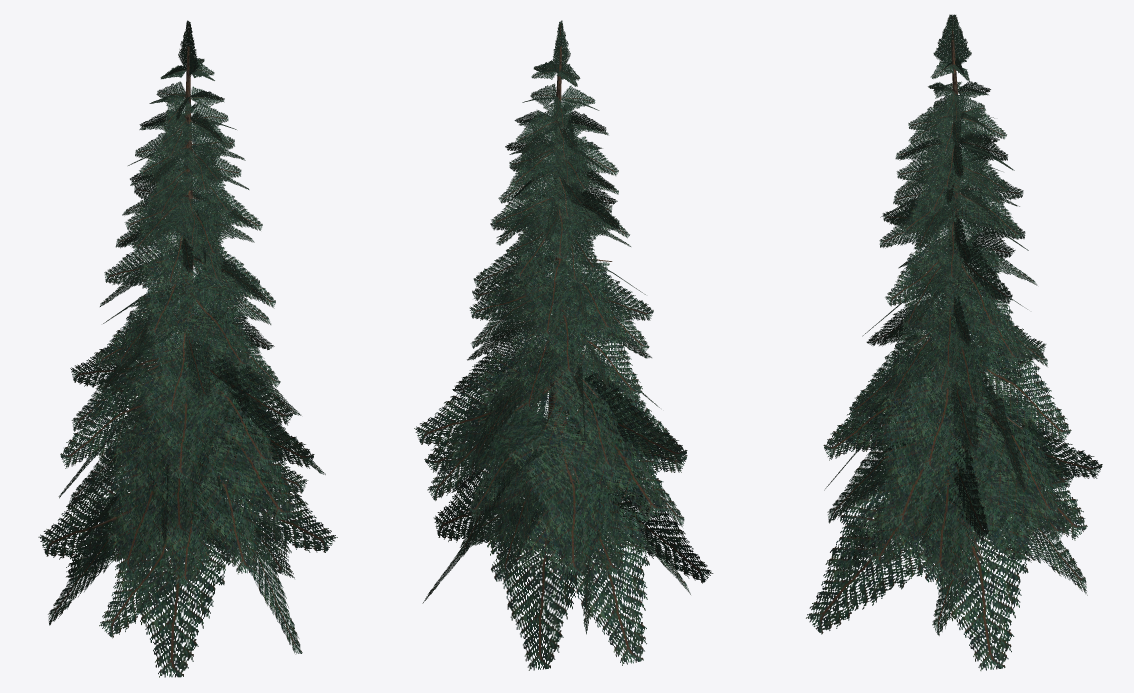
The model's file is TREE_Spruce_02.fbx.
3 views of the same model, side by side, from view 1: azimuth 30°, elevation 25°; view 2: azimuth 150°, elevation 25°; view 3: azimuth 270°, elevation 25° (orthographic).
Parts seen in each view (by area): view 1: TREE_Spruce_02; view 2: TREE_Spruce_02; view 3: TREE_Spruce_02.
Part boxes in pixels (x1,y1,x2,y2): TREE_Spruce_02: (38,20,337,677); TREE_Spruce_02: (414,20,713,670); TREE_Spruce_02: (806,14,1102,670).
Size of the model in its own units: 5.21 by 9.88 by 5.1.
Materials: 2 (2 with a texture image).
